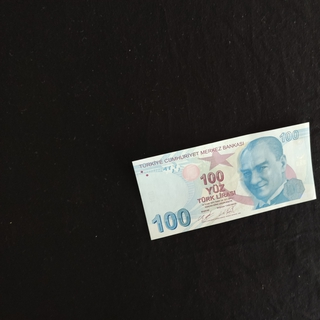100TLFront: (132, 121, 317, 240)
